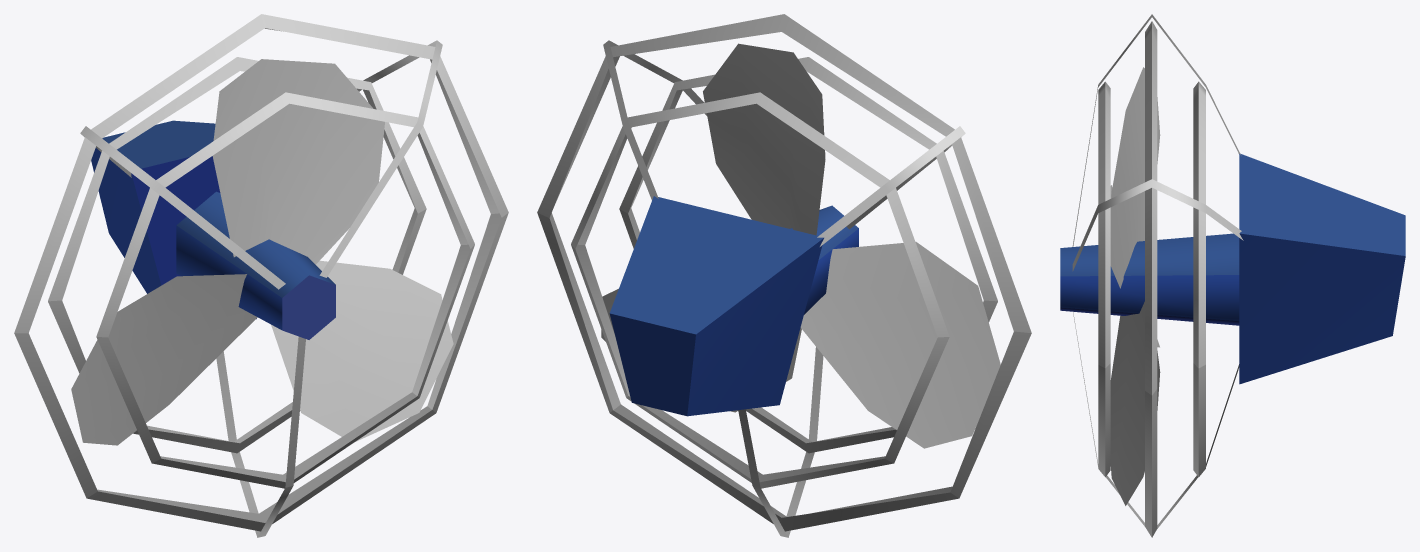
File: fan.fbx
3 views of the same model, side by side, from view 1: azimuth 30°, elevation 25°; view 2: azimuth 150°, elevation 25°; view 3: azimuth 270°, elevation 25° (orthographic). The views are drawn at different scales.
Visible parts, largest first — view 1: Fan_Head, Fan_Blades; view 2: Fan_Head, Fan_Blades; view 3: Fan_Head, Fan_Blades.
Boxes of the visible parts, left/top/right/bottom form: Fan_Head: left=14, top=14, right=508, bottom=537; Fan_Blades: left=71, top=59, right=453, bottom=445; Fan_Head: left=537, top=14, right=1031, bottom=537; Fan_Blades: left=601, top=43, right=1000, bottom=448; Fan_Head: left=1060, top=14, right=1405, bottom=537; Fan_Blades: left=1110, top=67, right=1160, bottom=505.
Bounding box in the file's own units: 3194 × 3226 × 2005.
